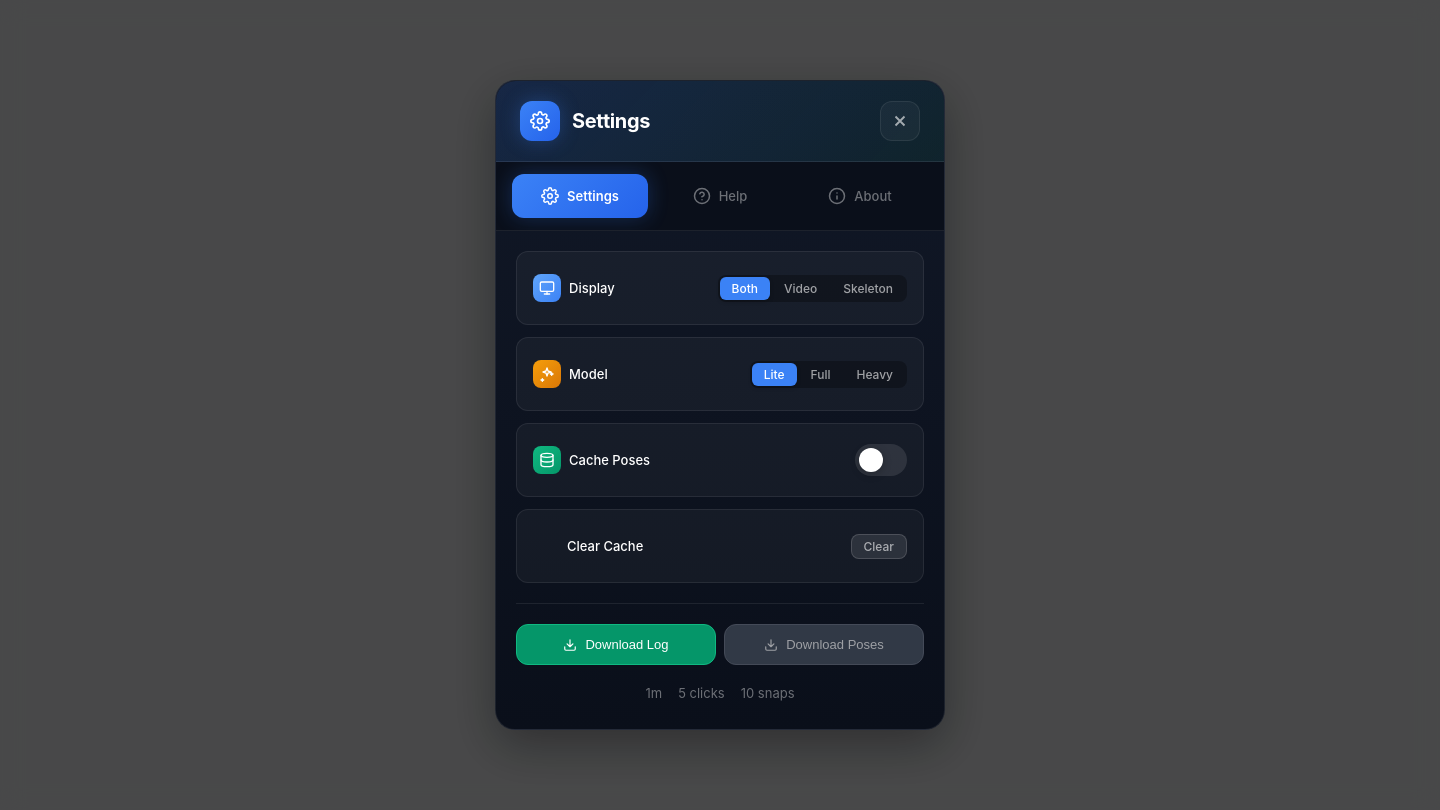
Test case: SettingsModal › Settings Tab › shows Failed! when clearAllPoseTracks fails
Click the button "Clear".
click(879, 546)  # box [850,534,907,558]
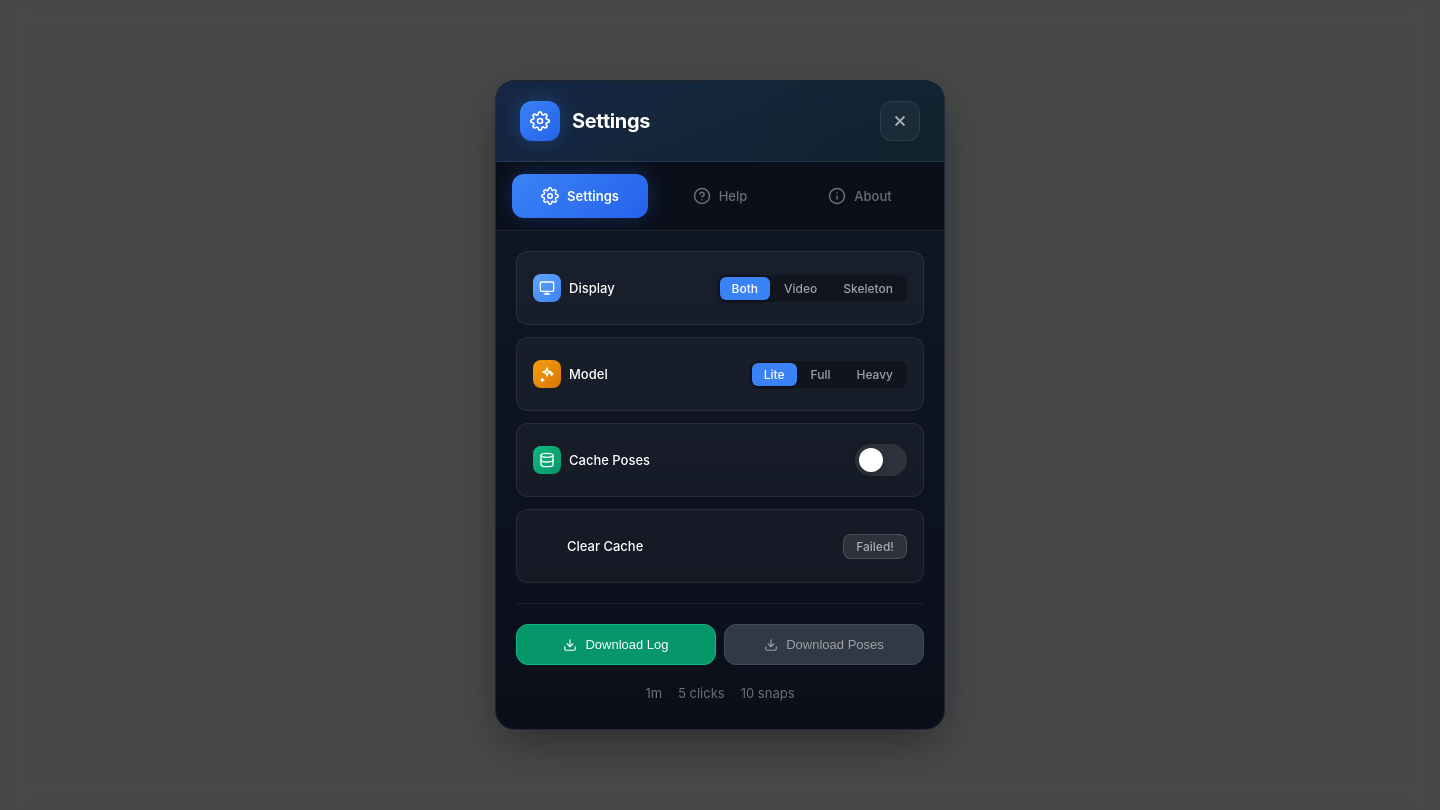
Expected: the button "Failed!" is shown, [843,534,907,558]
